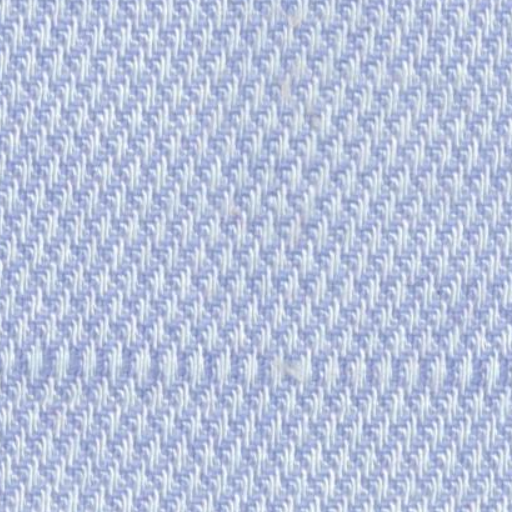TuoSha: (21, 323, 496, 422)
